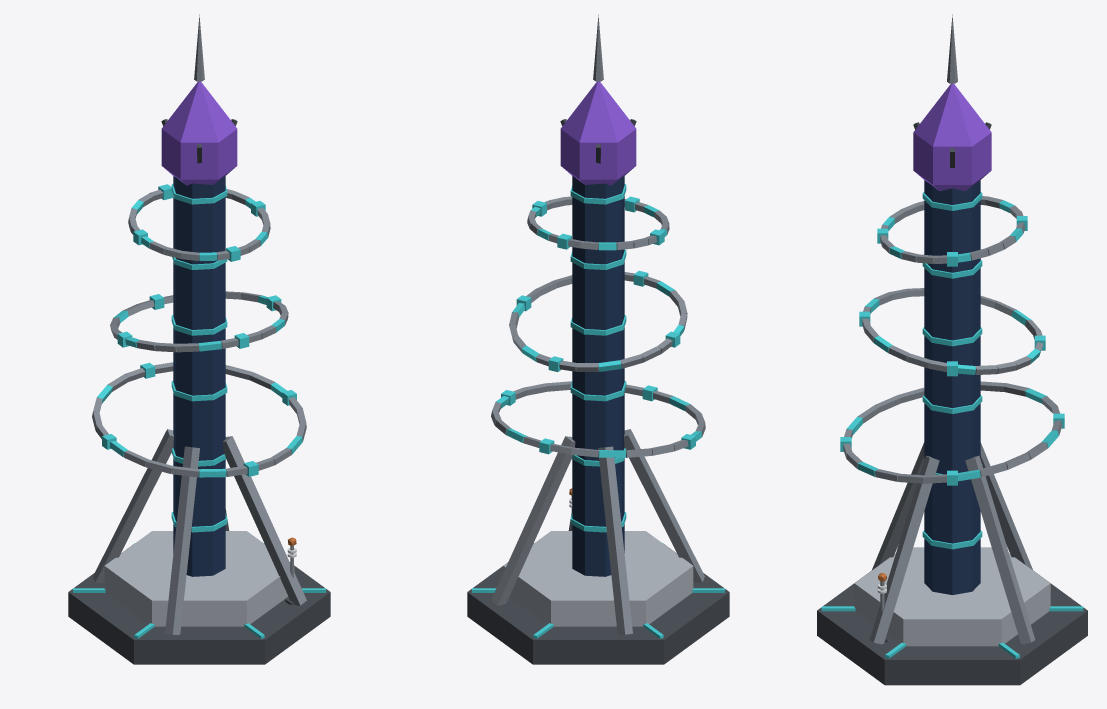
The model's file is antenne_quantique.glb.
The picture shows the model from 3 angles, left to right: view 1: azimuth 30°, elevation 25°; view 2: azimuth 150°, elevation 25°; view 3: azimuth 270°, elevation 25°; orthographic projection. The views are drawn at different scales.
Parts seen in each view (by area): view 1: colonne.002, socle_haut.002, socle.002, pieces_acier.018, anneaux_acier.002, voyant_cristal_bas.002, anneaux_cyan.002, voyant_cristal_haut.002, pieces_cyan.004, contre_acier.002, contre_cyan.002; view 2: colonne.002, socle_haut.002, socle.002, pieces_acier.018, anneaux_acier.002, voyant_cristal_bas.002, voyant_cristal_haut.002, pieces_cyan.004, anneaux_cyan.002, contre_acier.002, contre_cyan.002; view 3: colonne.002, socle.002, socle_haut.002, pieces_acier.018, anneaux_acier.002, voyant_cristal_bas.002, voyant_cristal_haut.002, pieces_cyan.004, contre_acier.002, anneaux_cyan.002, contre_cyan.002, fleche.002.
Boxes of the visible parts, <box> form: colonne.002: <box>173,175,225,576</box>; socle_haut.002: <box>104,531,294,626</box>; socle.002: <box>68,544,330,664</box>; pieces_acier.018: <box>93,429,306,635</box>; anneaux_acier.002: <box>92,189,306,477</box>; voyant_cristal_bas.002: <box>161,129,237,179</box>; anneaux_cyan.002: <box>97,184,302,477</box>; voyant_cristal_haut.002: <box>161,81,237,142</box>; pieces_cyan.004: <box>73,184,325,638</box>; contre_acier.002: <box>110,291,288,352</box>; contre_cyan.002: <box>113,294,285,351</box>; colonne.002: <box>572,175,624,576</box>; socle_haut.002: <box>503,531,693,626</box>; socle.002: <box>467,544,729,664</box>; pieces_acier.018: <box>491,429,704,635</box>; anneaux_acier.002: <box>491,196,705,457</box>; voyant_cristal_bas.002: <box>560,129,636,179</box>; voyant_cristal_haut.002: <box>560,81,636,142</box>; pieces_cyan.004: <box>472,184,724,638</box>; anneaux_cyan.002: <box>496,196,701,457</box>; contre_acier.002: <box>509,272,687,371</box>; contre_cyan.002: <box>512,270,684,371</box>; colonne.002: <box>924,180,980,594</box>; socle.002: <box>817,571,1087,685</box>; socle_haut.002: <box>854,547,1050,646</box>; pieces_acier.018: <box>869,442,1035,644</box>; anneaux_acier.002: <box>843,196,1062,483</box>; voyant_cristal_bas.002: <box>913,133,991,184</box>; voyant_cristal_haut.002: <box>913,83,991,146</box>; pieces_cyan.004: <box>821,192,1083,658</box>; contre_acier.002: <box>862,288,1043,374</box>; anneaux_cyan.002: <box>840,200,1064,485</box>; contre_cyan.002: <box>859,298,1045,376</box>; fleche.002: <box>947,14,957,83</box>.
Bounding box in the file's own units: 1.5 × 3.67 × 1.5.
